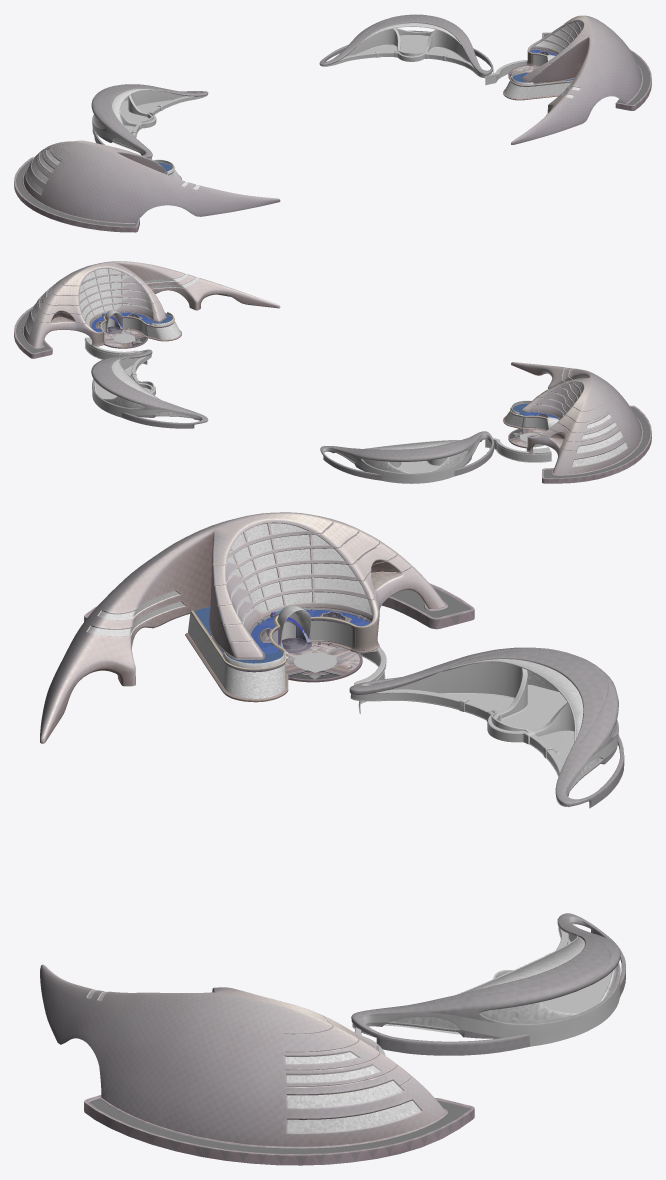
File: 4V4_WSJ_Lightmap02_Base_lv3.fbx
3 renders of one model, top to bottom at view 1: azimuth 30°, elevation 25°; view 2: azimuth 150°, elevation 25°; view 3: azimuth 270°, elevation 25°, orthographic. The views are drawn at different scales.
Visible parts, largest first — view 1: sm_beach_WSJ_techborn01a_mirror_lv3, sm_beach_WSJ_techborn01a_lv3, sm_beach_techpagoda01_d_lv3, sm_beach_techpagoda01_mirror_b_lv3, sm_beach_techpagoda01_mirror_d_lv3, sm_beach_techpagoda01_e_lv3, sm_beach_techpagoda01_mirror_e_lv3, sm_beach_techpagoda01_c_lv3, sm_beach_techpagoda01_b_lv3, sm_beach_WSJ_techborn02a_lv3, sm_beach_WSJ_techborn06a_mirror_lv3, sm_beach_WSJ_techborn05a_lv3 (+6 smaller); view 2: sm_beach_WSJ_techborn01a_lv3, sm_beach_WSJ_techborn01a_mirror_lv3, sm_beach_WSJ_techborn05a_lv3, sm_beach_techpagoda01_c_lv3, sm_beach_techpagoda01_mirror_c_lv3, sm_beach_WSJ_techborn05a_mirror_lv3, sm_beach_techpagoda01_mirror_b_lv3, sm_beach_techpagoda01_mirror_d_lv3, sm_beach_techpagoda01_mirror_a_lv3, sm_beach_techpagoda01_a_lv3, pref_sm_beach_techborn01_e_mirror02_lv3, sm_beach_techpagoda01_d_lv3 (+8 smaller); view 3: sm_beach_WSJ_techborn01a_lv3, sm_beach_WSJ_techborn01a_mirror_lv3, sm_beach_techpagoda01_mirror_d_lv3, sm_beach_WSJ_techborn05a_mirror_lv3, sm_beach_techpagoda01_b_lv3, sm_beach_techpagoda01_mirror_c_lv3, sm_beach_WSJ_techborn05a_lv3, sm_beach_techpagoda01_d_lv3, sm_beach_WSJ_techborn02a_mirror_lv3, sm_beach_techpagoda01_a_lv3, sm_beach_WSJ_techborn06a_lv3, sm_beach_techpagoda01_c_lv3 (+5 smaller).
Part boxes in pixels (<box>): sm_beach_WSJ_techborn01a_mirror_lv3: <box>14,140,280,232</box>; sm_beach_WSJ_techborn01a_lv3: <box>503,15,651,144</box>; sm_beach_techpagoda01_d_lv3: <box>355,26,492,77</box>; sm_beach_techpagoda01_mirror_b_lv3: <box>91,95,152,158</box>; sm_beach_techpagoda01_mirror_d_lv3: <box>92,97,171,159</box>; sm_beach_techpagoda01_e_lv3: <box>320,26,418,66</box>; sm_beach_techpagoda01_mirror_e_lv3: <box>125,89,207,116</box>; sm_beach_techpagoda01_c_lv3: <box>319,14,422,65</box>; sm_beach_techpagoda01_b_lv3: <box>419,15,493,75</box>; sm_beach_WSJ_techborn02a_lv3: <box>504,55,571,98</box>; sm_beach_WSJ_techborn06a_mirror_lv3: <box>16,158,136,226</box>; sm_beach_WSJ_techborn05a_lv3: <box>535,21,583,98</box>; sm_beach_WSJ_techborn01a_lv3: <box>14,261,280,358</box>; sm_beach_WSJ_techborn01a_mirror_lv3: <box>503,362,651,483</box>; sm_beach_WSJ_techborn05a_lv3: <box>26,268,200,333</box>; sm_beach_techpagoda01_c_lv3: <box>94,374,208,428</box>; sm_beach_techpagoda01_mirror_c_lv3: <box>320,446,423,480</box>; sm_beach_WSJ_techborn05a_mirror_lv3: <box>541,367,627,466</box>; sm_beach_techpagoda01_mirror_b_lv3: <box>420,431,493,476</box>; sm_beach_techpagoda01_mirror_d_lv3: <box>397,434,490,483</box>; sm_beach_techpagoda01_mirror_a_lv3: <box>336,440,479,473</box>; sm_beach_techpagoda01_a_lv3: <box>94,358,190,416</box>; pref_sm_beach_techborn01_e_mirror02_lv3: <box>484,438,551,462</box>; sm_beach_techpagoda01_d_lv3: <box>92,351,155,404</box>; sm_beach_WSJ_techborn01a_lv3: <box>40,964,474,1165</box>; sm_beach_WSJ_techborn01a_mirror_lv3: <box>40,512,474,743</box>; sm_beach_techpagoda01_mirror_d_lv3: <box>350,661,574,764</box>; sm_beach_WSJ_techborn05a_mirror_lv3: <box>87,523,371,640</box>; sm_beach_techpagoda01_b_lv3: <box>351,966,589,1055</box>; sm_beach_techpagoda01_mirror_c_lv3: <box>555,659,624,808</box>; sm_beach_WSJ_techborn05a_lv3: <box>87,990,420,1132</box>; sm_beach_techpagoda01_d_lv3: <box>352,940,611,1046</box>; sm_beach_WSJ_techborn02a_mirror_lv3: <box>188,605,311,698</box>; sm_beach_techpagoda01_a_lv3: <box>389,936,618,1029</box>; sm_beach_WSJ_techborn06a_lv3: <box>89,1098,469,1154</box>; sm_beach_techpagoda01_c_lv3: <box>557,913,625,1011</box>.
Size of the model in its own units: 181 by 17.41 by 75.7.
